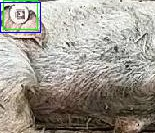text: (3, 0, 37, 29)
